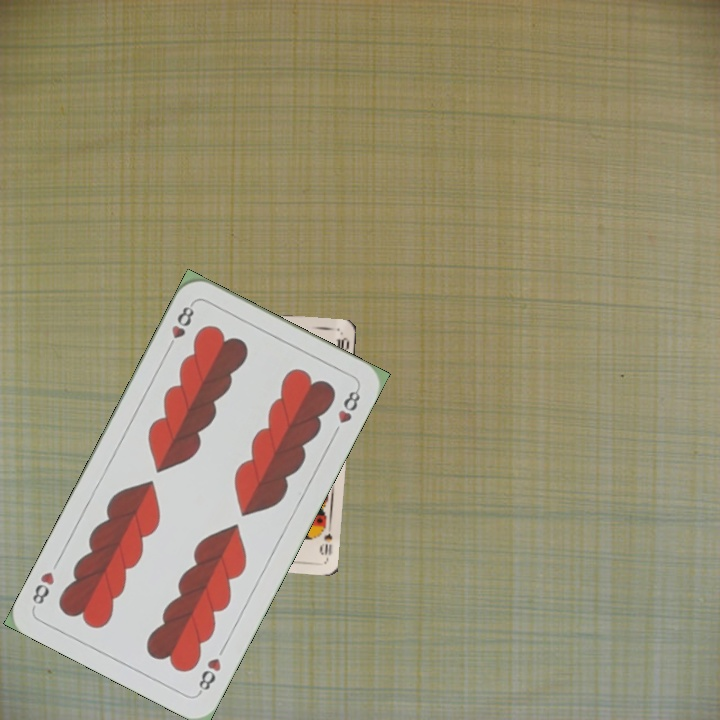H8: (163, 299, 197, 354), (194, 653, 224, 697)
S10: (316, 529, 335, 561)
